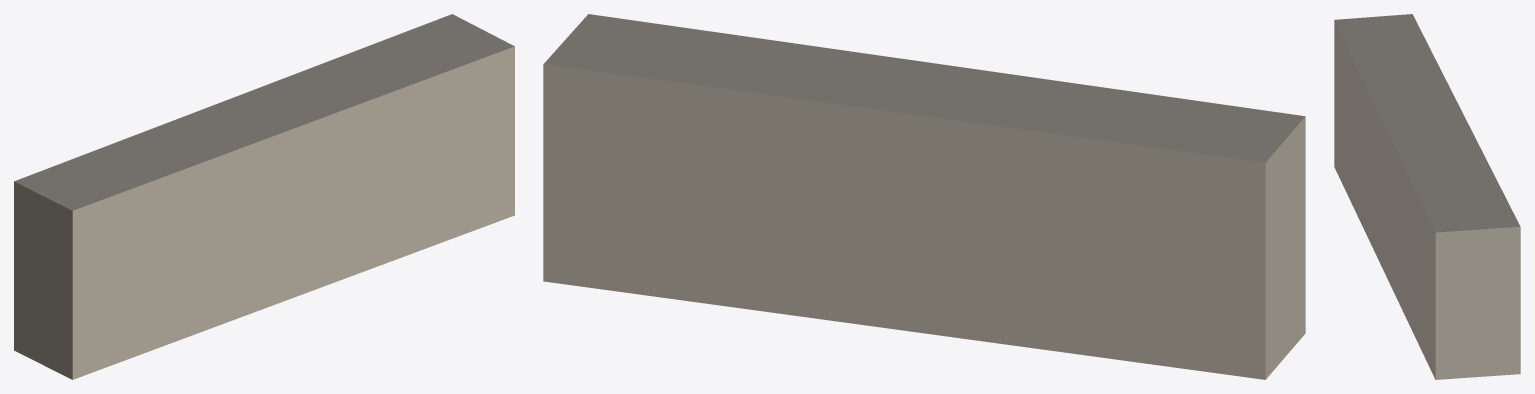
The picture shows the model from 3 angles, left to right: view 1: azimuth 30°, elevation 25°; view 2: azimuth 150°, elevation 25°; view 3: azimuth 270°, elevation 25°; orthographic projection. The views are drawn at different scales.
Parts seen in each view (by area): view 1: HP-w1058562708; view 2: HP-w1058562708; view 3: HP-w1058562708.
Part boxes in pixels (x1,y1,x2,y2): HP-w1058562708: [14, 14, 514, 379]; HP-w1058562708: [543, 14, 1305, 379]; HP-w1058562708: [1334, 14, 1520, 379].
Bounding box in the file's own units: 57.25 × 18 × 20.6.
